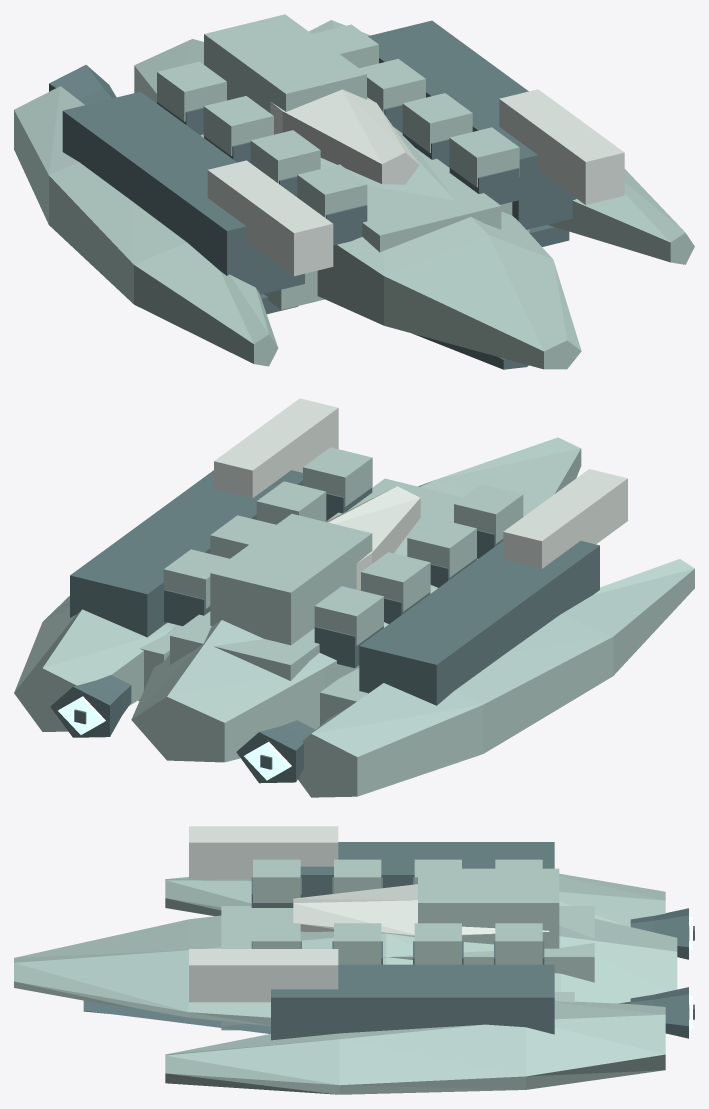
3 views of the same model, one above another, from view 1: azimuth 30°, elevation 25°; view 2: azimuth 150°, elevation 25°; view 3: azimuth 270°, elevation 25° (orthographic). The views are drawn at different scales.
Size of the model in its own units: 19.26 by 6.23 by 26.99.
